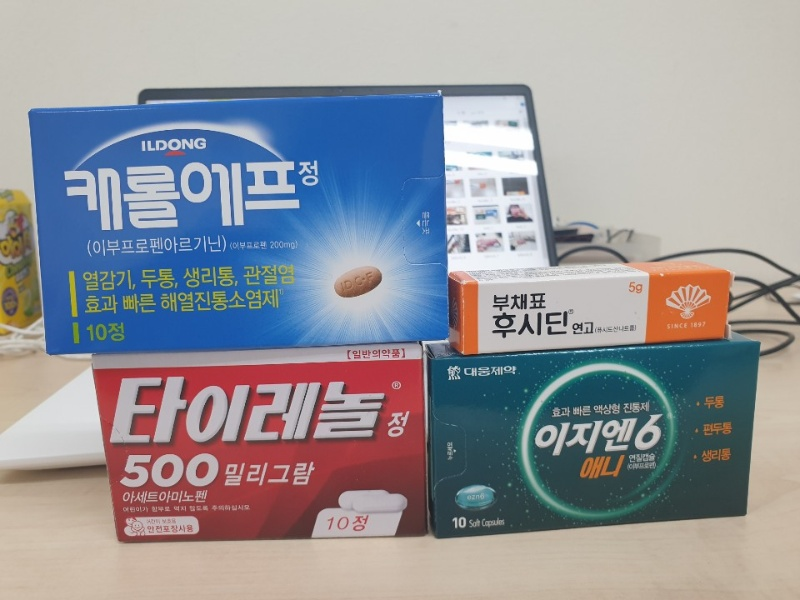ezn: (430, 345, 760, 538)
fucidin: (450, 273, 730, 348)
tylenol: (93, 344, 431, 537)
